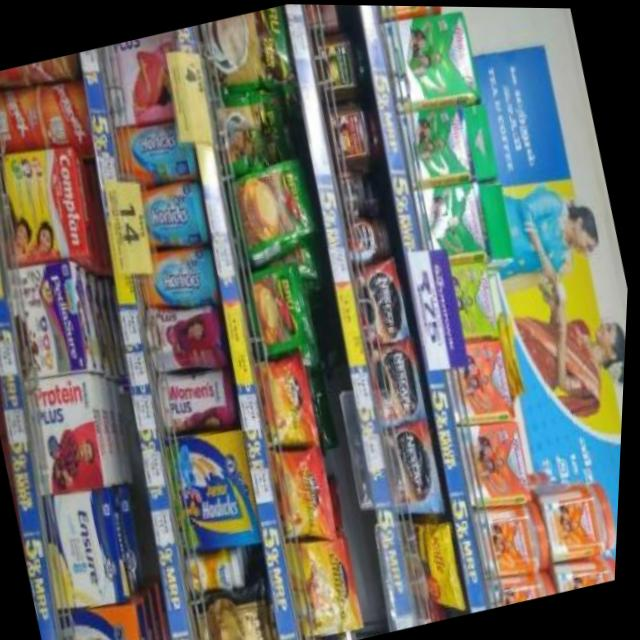Coffee: (285, 534, 369, 635), (251, 349, 324, 447), (267, 443, 342, 538), (379, 418, 451, 515), (365, 334, 434, 426), (349, 254, 416, 345), (343, 208, 395, 265), (336, 164, 372, 218)
